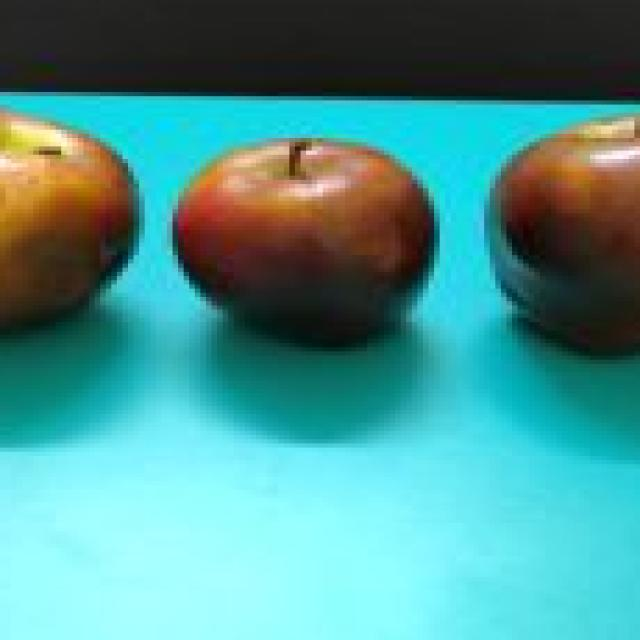Bad_Apple 0-1 day: (181, 144, 426, 344), (493, 119, 640, 352), (0, 113, 136, 324)
